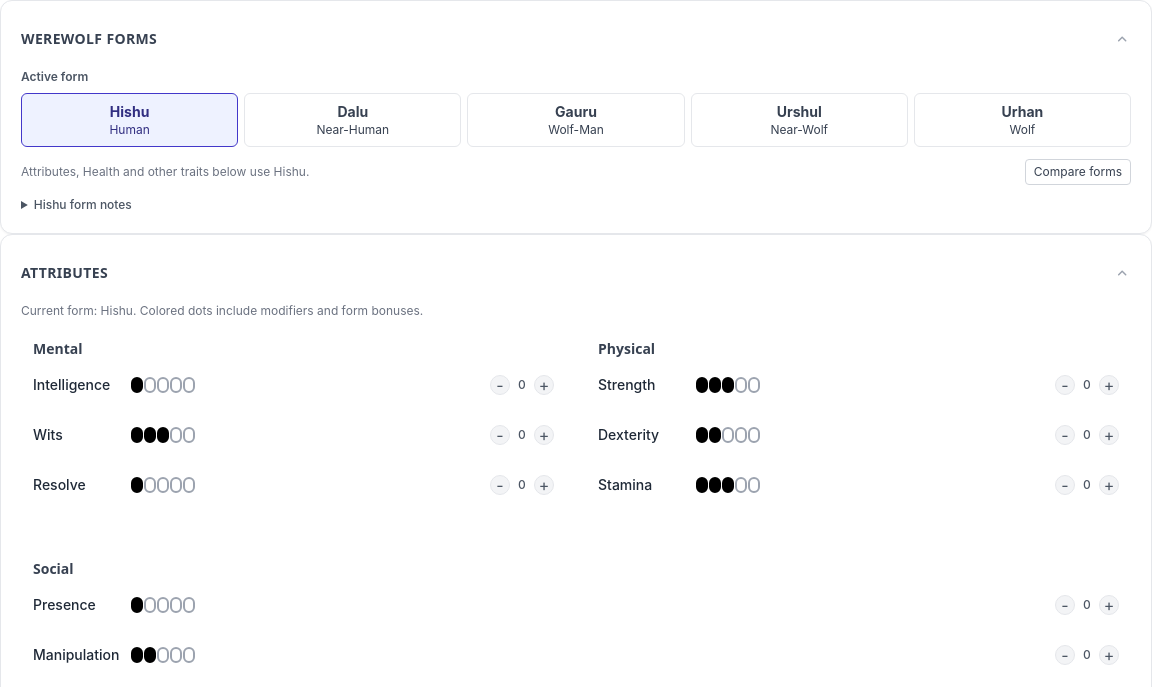
Test: Werewolf 1e forms › shows changes in existing attribute and trait sections without a duplicate stats grid
Click the radio button labelled "Gauru Wolf-Man" at {"x": 576, "y": 120}, box [467,93,685,147]
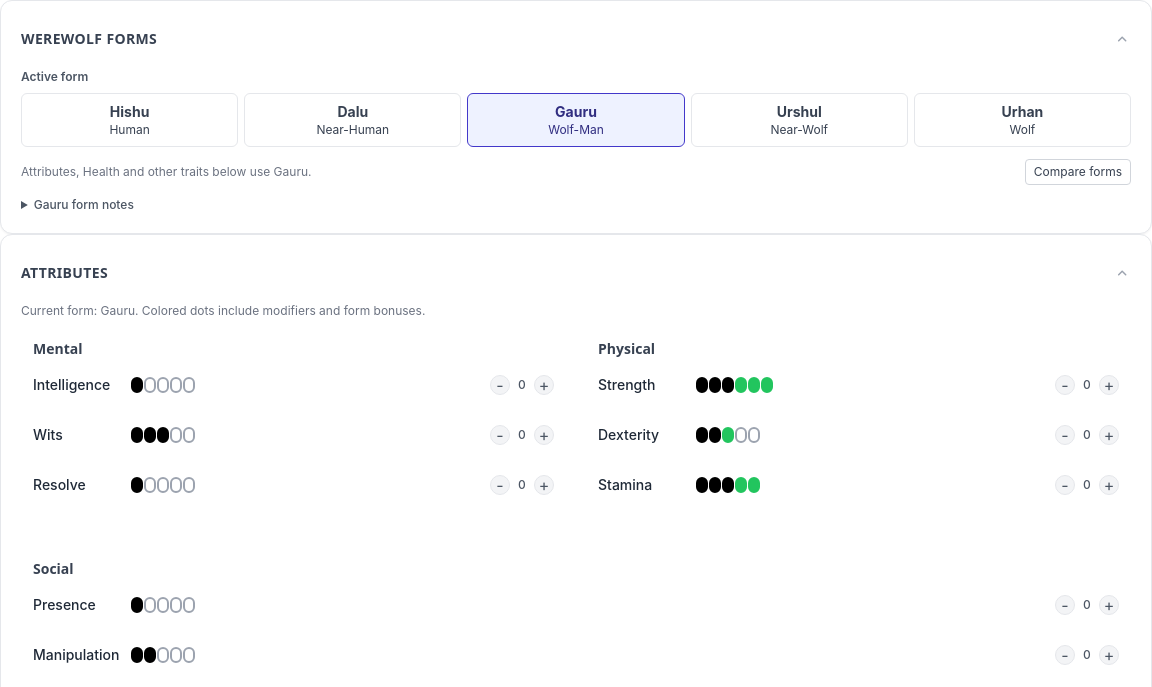
expect the element named "Strength: 6 (Gauru)" is shown: met, box [696,377,773,393]
Click the 2nd button "+" at {"x": 1109, "y": 385}, box [1099,375,1119,395]
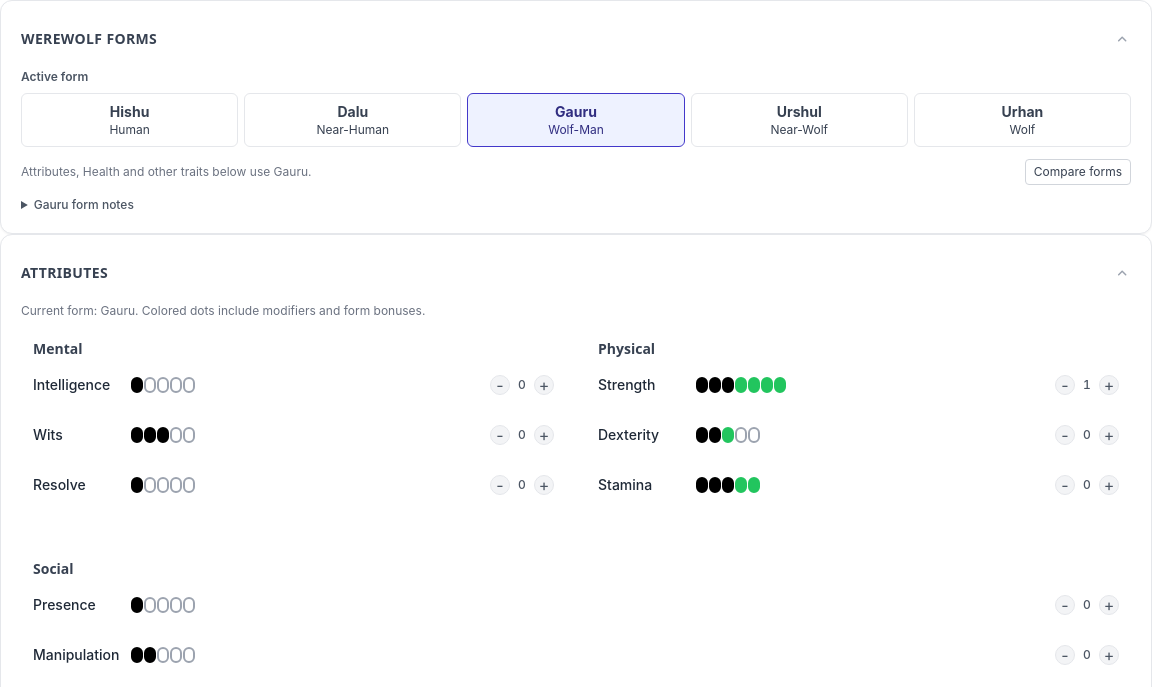
expect the element named "Strength: 7 (Gauru)" is shown: met, box [696,377,786,393]
Click the button "Compare forms" at {"x": 1078, "y": 172}, box [1025,159,1131,185]
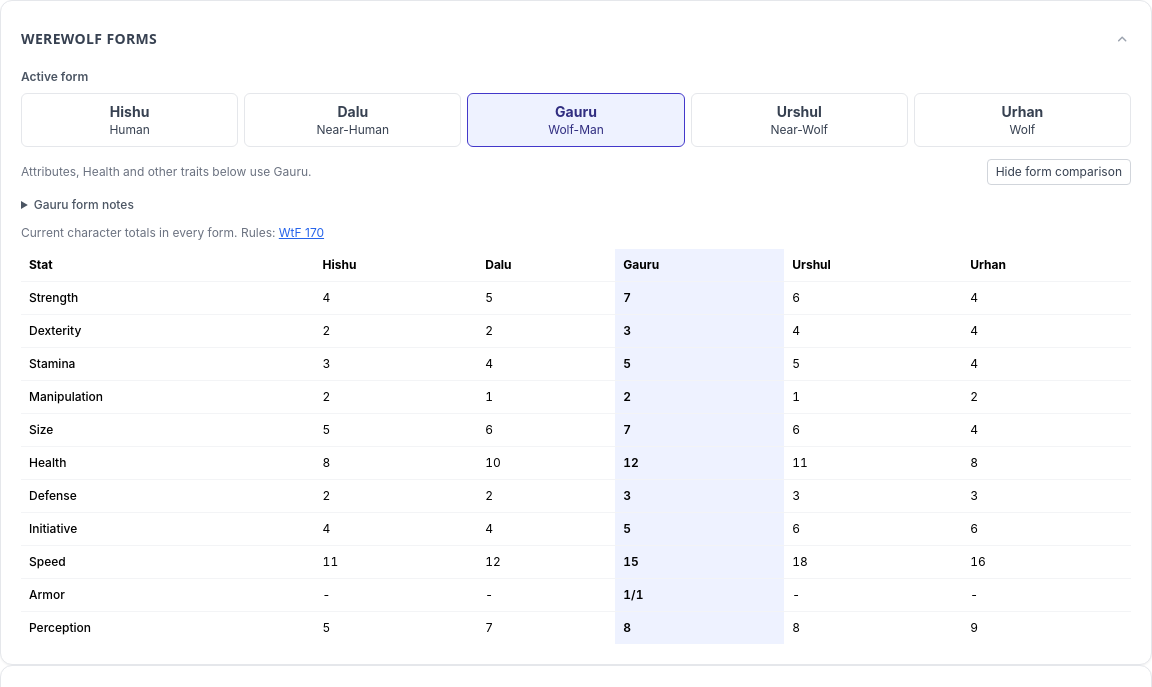
expect the number of rows is 12: met
